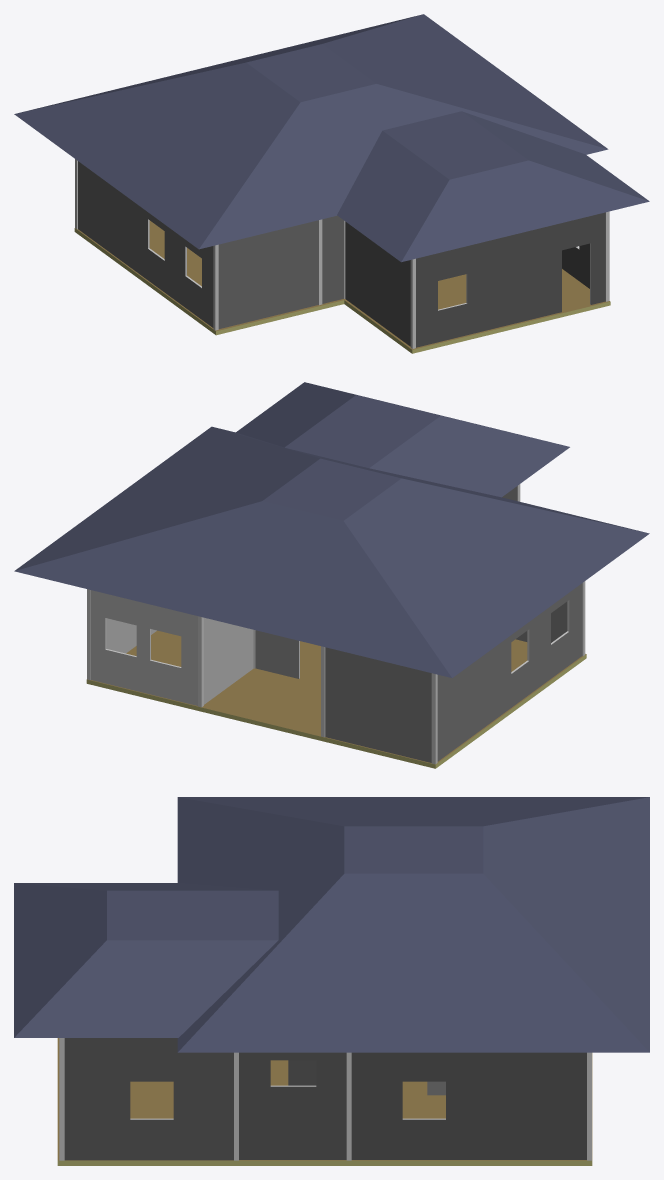
Rendered from Casa C1-08.fbx.
The picture shows the model from 3 angles, top to bottom: view 1: azimuth 30°, elevation 25°; view 2: azimuth 150°, elevation 25°; view 3: azimuth 270°, elevation 25°; orthographic projection. The views are drawn at different scales.
Parts seen in each view (by area): view 1: Cubo.001; view 2: Cubo.001; view 3: Cubo.001.
Part boxes in pixels (x1,y1,x2,y2): Cubo.001: [14, 14, 649, 353]; Cubo.001: [14, 382, 649, 768]; Cubo.001: [14, 797, 649, 1165].
Size of the model in its own units: 2250 by 888 by 2366.
